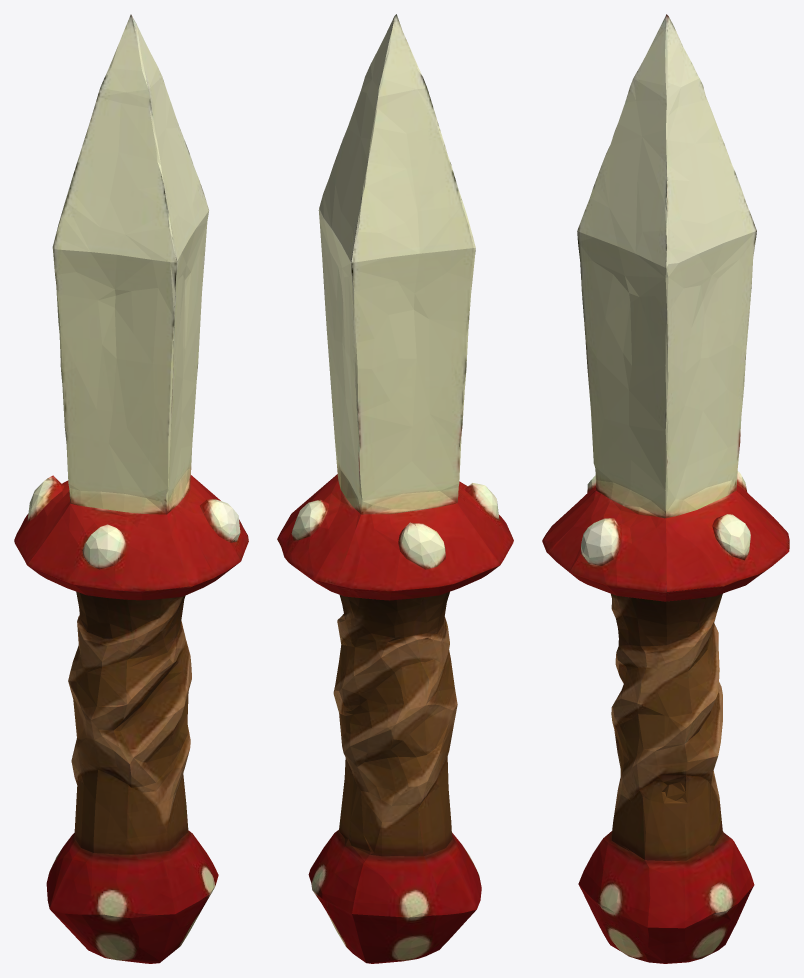
Rendered from a_champignon_dague.glb.
The picture shows the model from 3 angles, left to right: view 1: azimuth 30°, elevation 25°; view 2: azimuth 150°, elevation 25°; view 3: azimuth 270°, elevation 25°; orthographic projection.
Parts seen in each view (by area): view 1: geometry_0; view 2: geometry_0; view 3: geometry_0.
Boxes of the visible parts, x1,y1,x2,y2 form: geometry_0: (14, 14, 248, 963); geometry_0: (277, 14, 513, 963); geometry_0: (542, 14, 789, 963).
Size of the model in its own units: 0.2327 by 0.9999 by 0.2379.
Materials: 1 (1 with a texture image).
